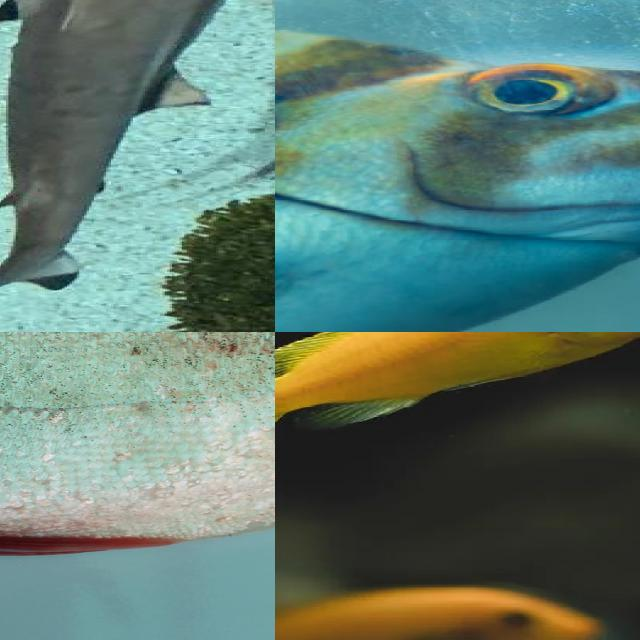fish: (275, 0, 640, 332), (0, 0, 275, 332), (0, 332, 275, 566), (275, 332, 640, 503)
